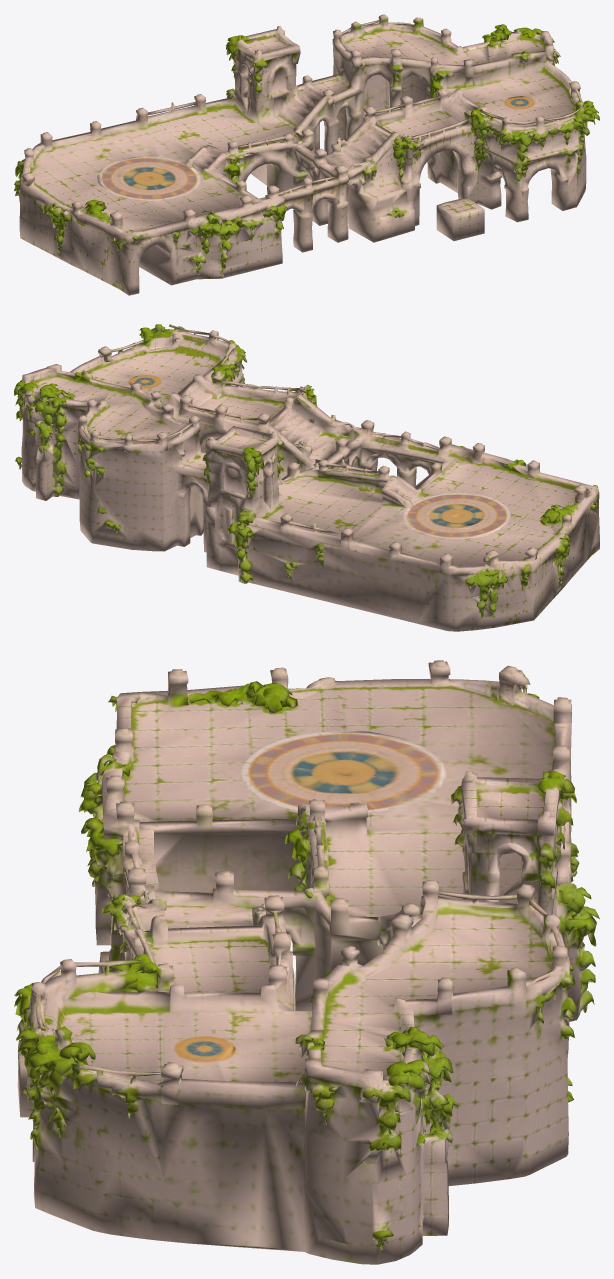
3 views of the same model, one above another, from view 1: azimuth 30°, elevation 25°; view 2: azimuth 150°, elevation 25°; view 3: azimuth 270°, elevation 25° (orthographic). The views are drawn at different scales.
Visible parts, largest first — view 1: output_unwrapped; view 2: output_unwrapped; view 3: output_unwrapped.
Part boxes in pixels (bbox=[...]): output_unwrapped: bbox=[14, 14, 599, 295]; output_unwrapped: bbox=[14, 324, 599, 631]; output_unwrapped: bbox=[14, 660, 599, 1264].
Size of the model in its own units: 431 by 100 by 218.
Materials: 1 (1 with a texture image).
